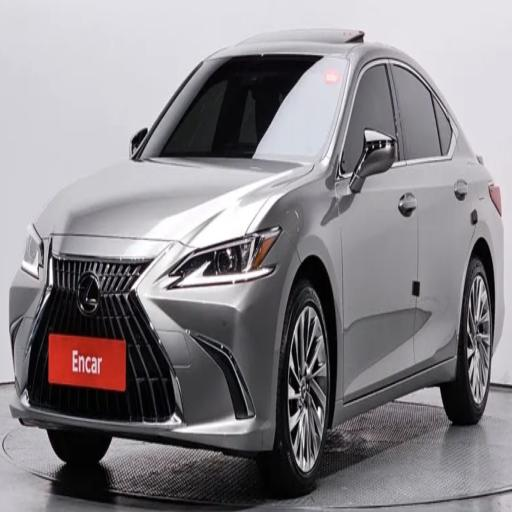normal: (10, 13, 512, 469)
